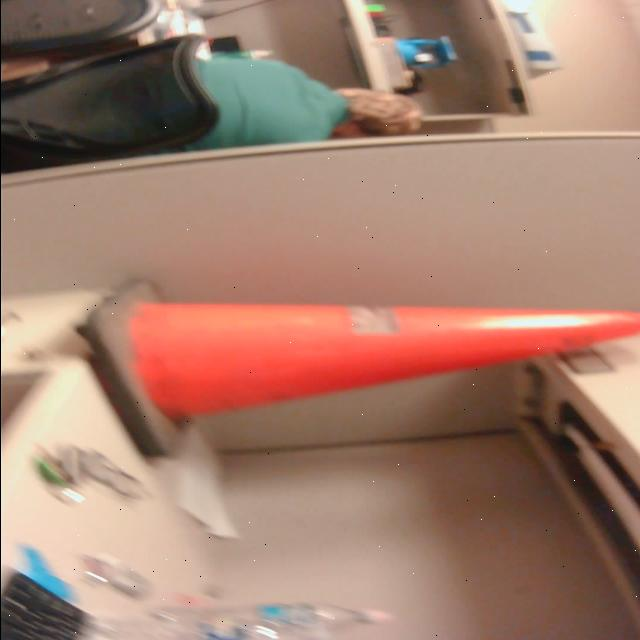traffic cone: (62, 273, 640, 468)
